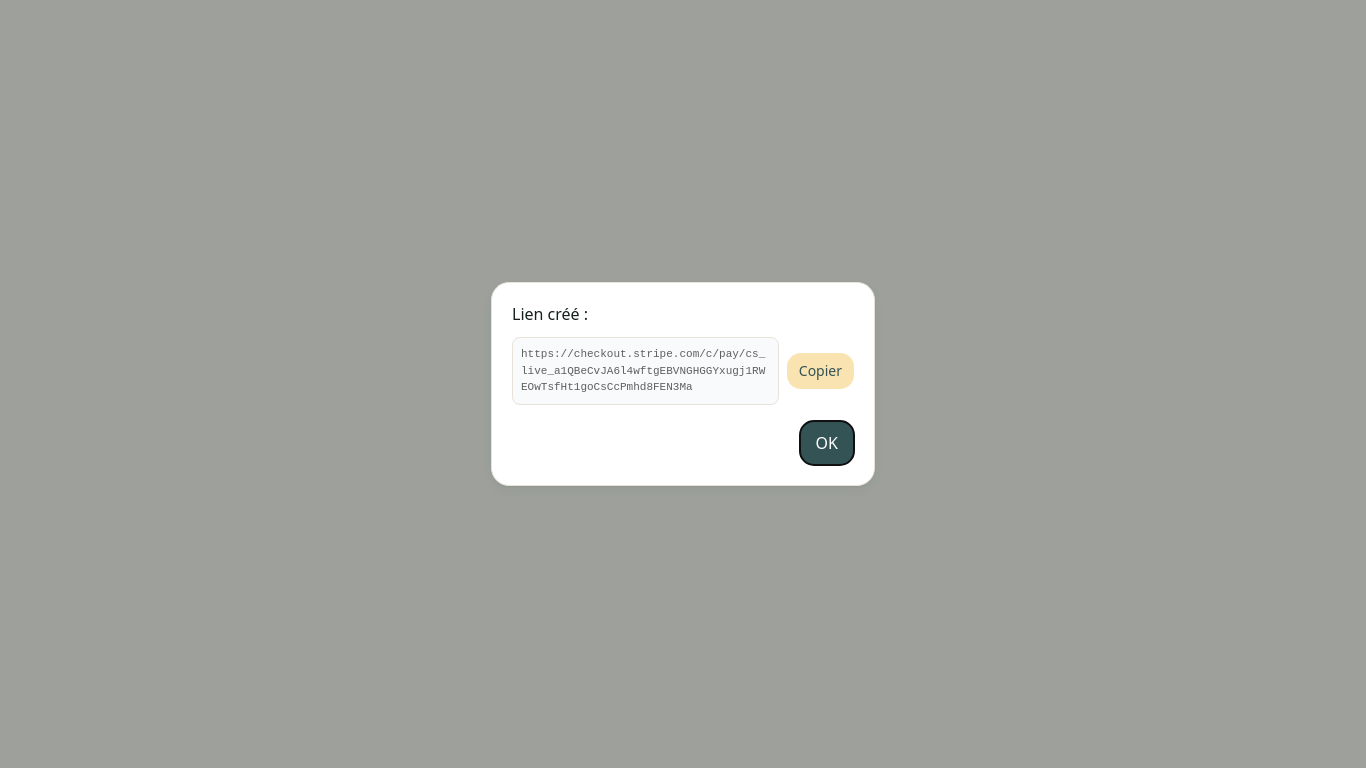
Scenario: alertThemed avec lien › copie le lien au clic sur Copier et affiche une confirmation
The width and height of the screenshot is (1366, 768).
Later steps or results of the test are not shown.
Click the button "Copier". click: (820, 371)
box: [787,353,854,389]
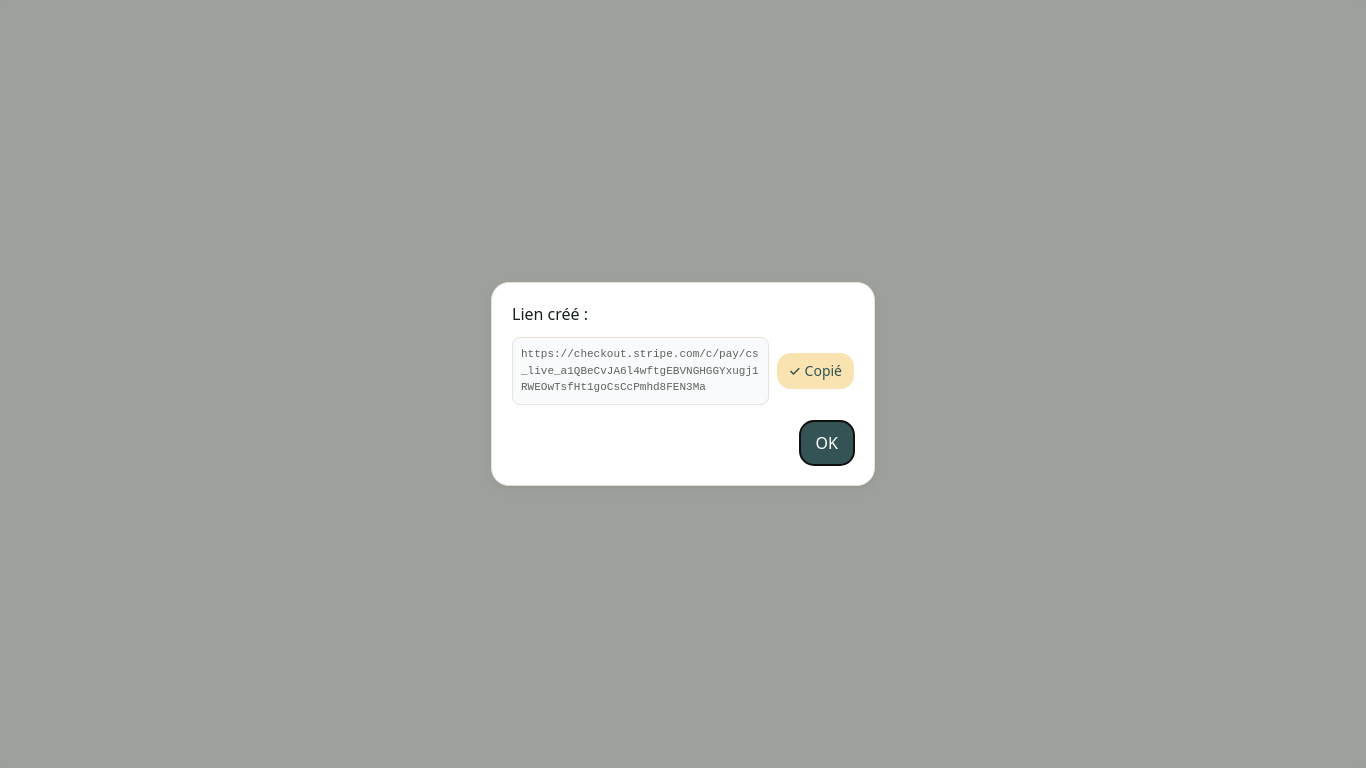
Expected: the button "✓ Copié" is shown, [776,353,854,389]
